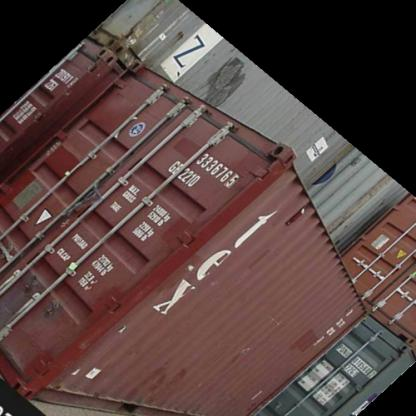Damage: (264, 305, 295, 332), (229, 338, 254, 360), (110, 316, 130, 338), (247, 384, 267, 402), (181, 258, 197, 276)
